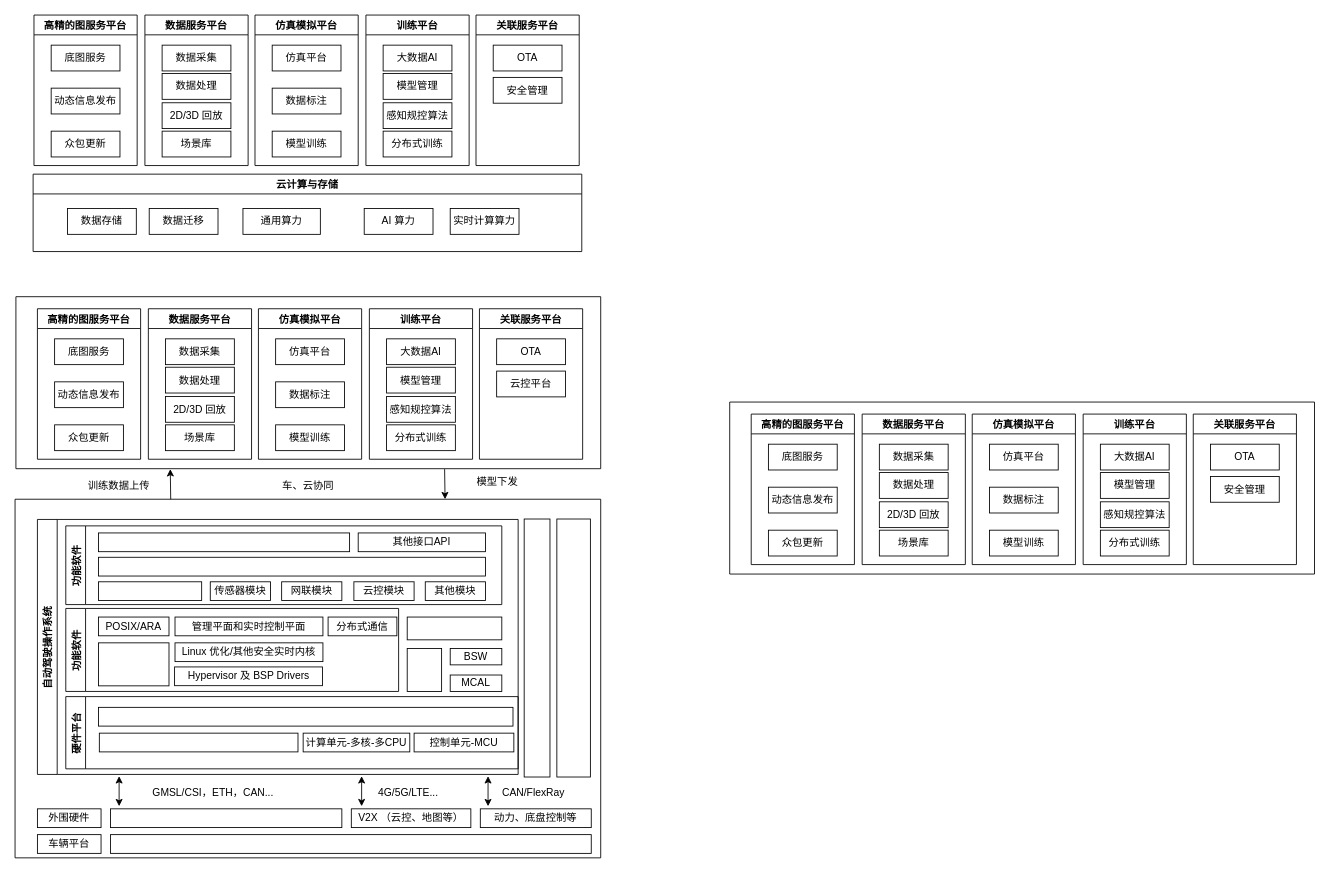
Some shapes in this 1330 by 873 pixel diagram are drawn without their labels. The shapes that lost their labels are listed below. From the top down, each one's centre as x and y in pixels, then its label:
pixel 224 542: 算法接口API
pixel 291 566: 自动驾驶通用框架（感知、规划、控制）
pixel 150 591: 深度学习和视觉模块
pixel 454 628: AUTOSAR RTE
pixel 536 647: 安全体系
pixel 573 647: 工具链（开发、仿真、调试、测试等）
pixel 133 664: Linux 等
pixel 424 669: Safety RTOS
pixel 305 716: 异构分布硬件架构
pixel 198 742: AI 单元 GPU/FPGA/ASIC AI 芯片 + CPU
pixel 226 818: 摄像头、雷达、GPS、惯导等传感器
pixel 350 843: 自动驾驶车辆工程、功能需求、平台技术、整车集成
